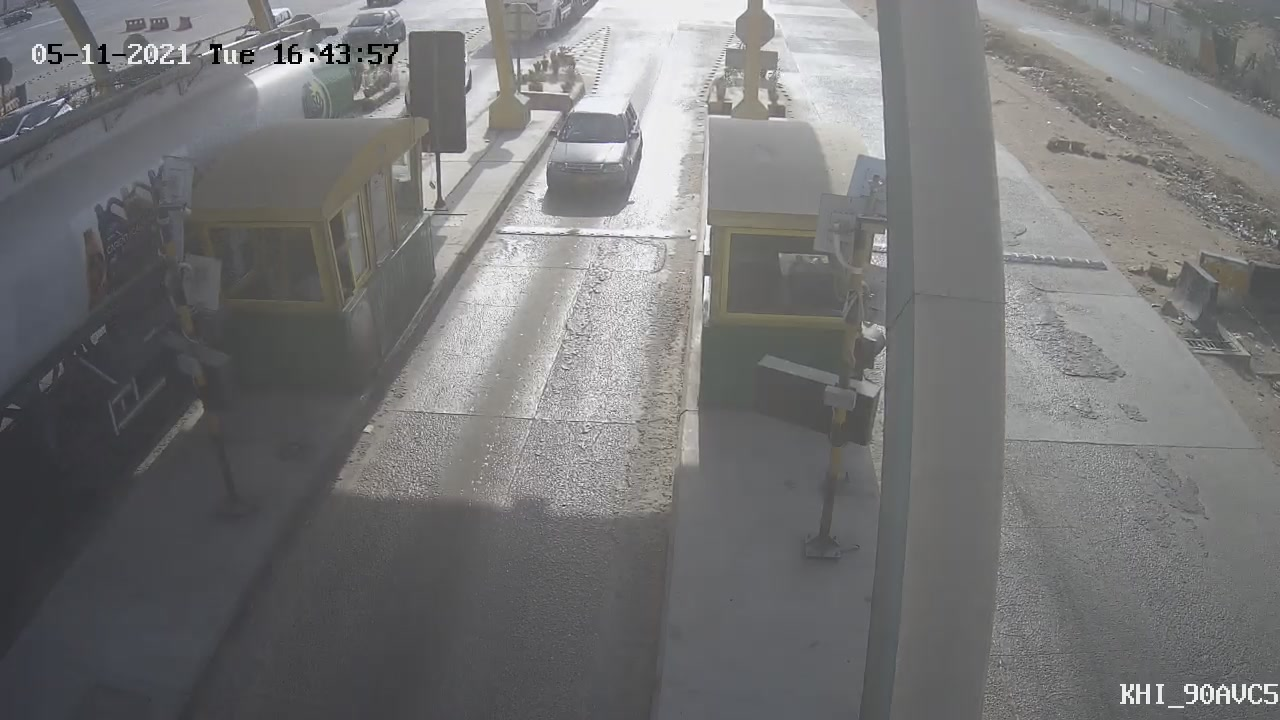F1: (526, 81, 659, 222)
